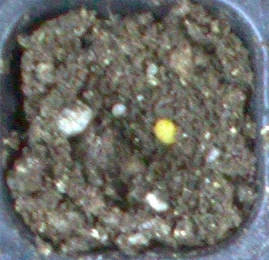pepper seed: (65, 46, 242, 191)
